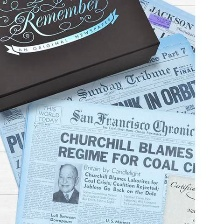news_paper: (0, 31, 195, 194), (12, 95, 217, 224), (135, 0, 200, 60)
